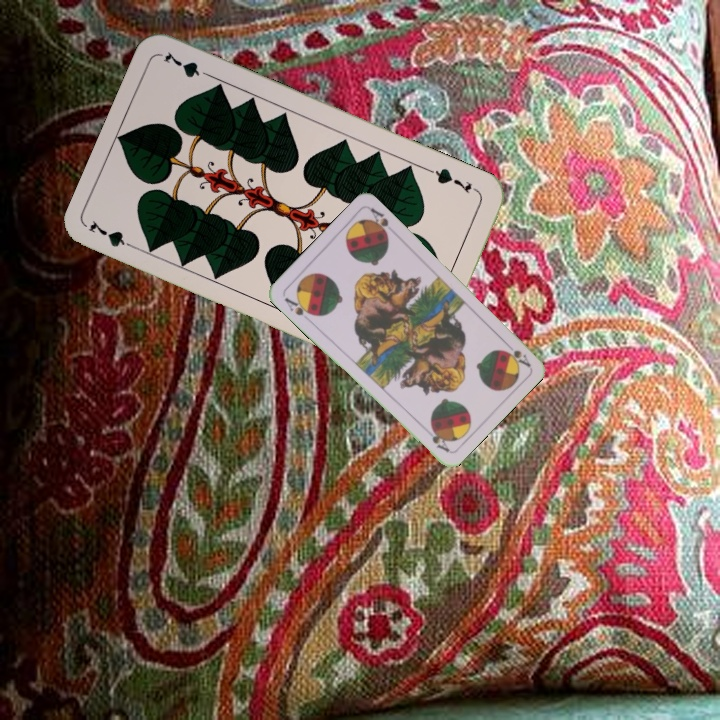G7: (85, 216, 142, 253), (426, 164, 482, 196)
SA: (500, 337, 532, 369), (281, 293, 317, 319)
